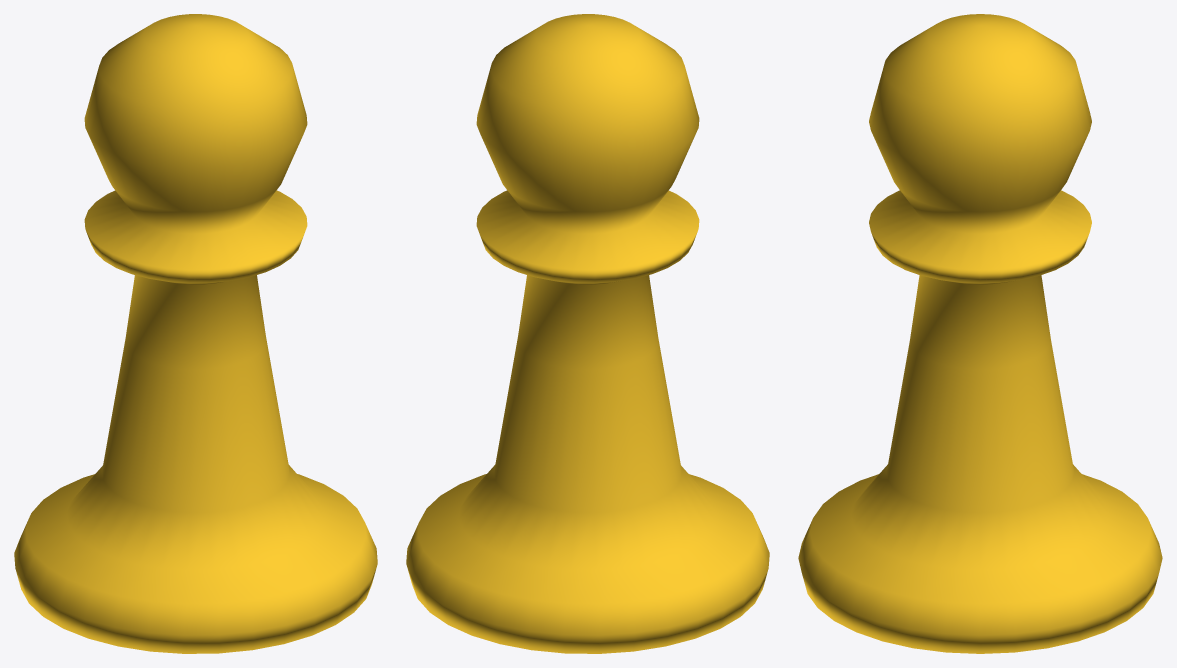
The model's file is DiceDashPawn.obj.
The picture shows the model from 3 angles, left to right: view 1: azimuth 30°, elevation 25°; view 2: azimuth 150°, elevation 25°; view 3: azimuth 270°, elevation 25°; orthographic projection.
Visible parts, largest first — view 1: Body; view 2: Body; view 3: Body.
Boxes of the visible parts, <box> form: Body: <box>14,14,377,653</box>; Body: <box>406,14,769,653</box>; Body: <box>798,14,1162,653</box>.
Size of the model in its own units: 6.2 by 10.4 by 6.2.
